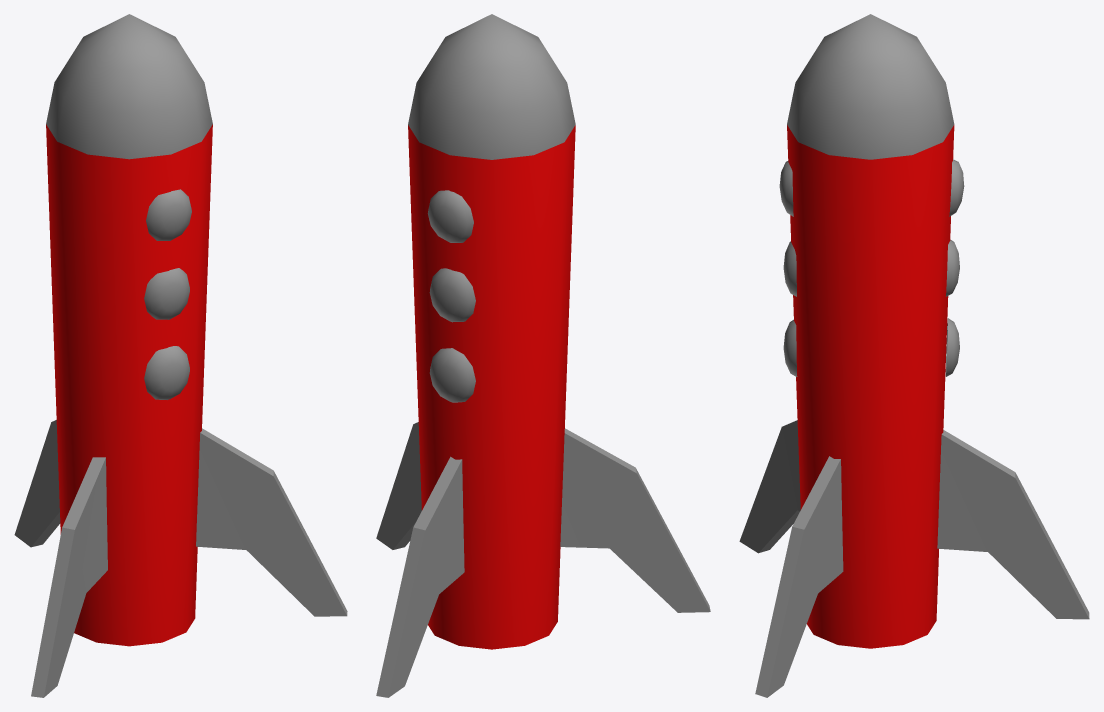
Rendered from model_ship02.FBX.
3 renders of one model, left to right at view 1: azimuth 30°, elevation 25°; view 2: azimuth 150°, elevation 25°; view 3: azimuth 270°, elevation 25°, orthographic.
Parts seen in each view (by area): view 1: mesh_ship02; view 2: mesh_ship02; view 3: mesh_ship02.
Boxes of the visible parts, x1,y1,x2,y2 form: mesh_ship02: (14,14,347,697); mesh_ship02: (376,14,710,697); mesh_ship02: (739,14,1089,697).
Size of the model in its own units: 24.22 by 43.1 by 22.53.
